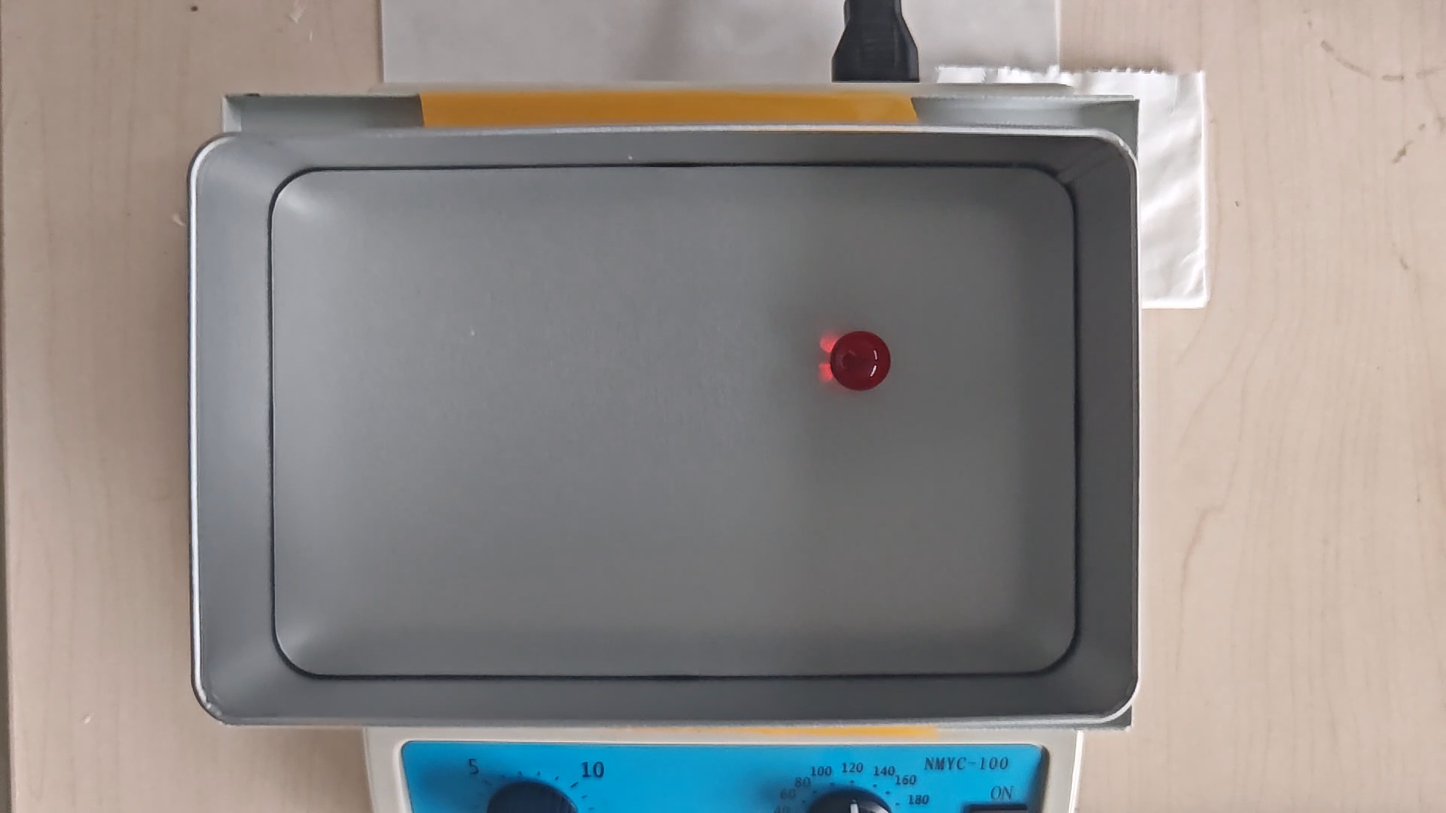ball: (831, 333, 891, 391)
container: (270, 168, 1077, 676)
